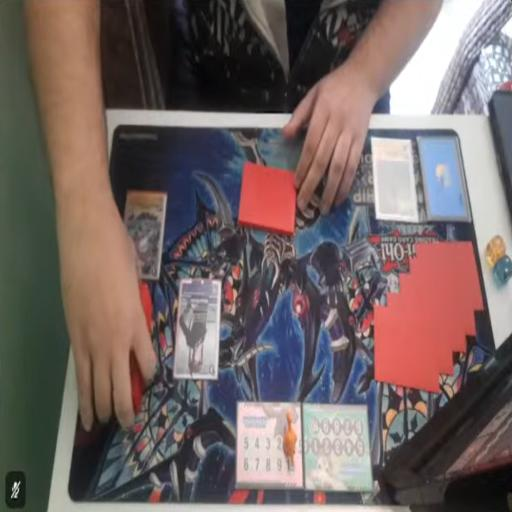card: (172, 271, 222, 380), (123, 192, 170, 280), (374, 136, 416, 222)
